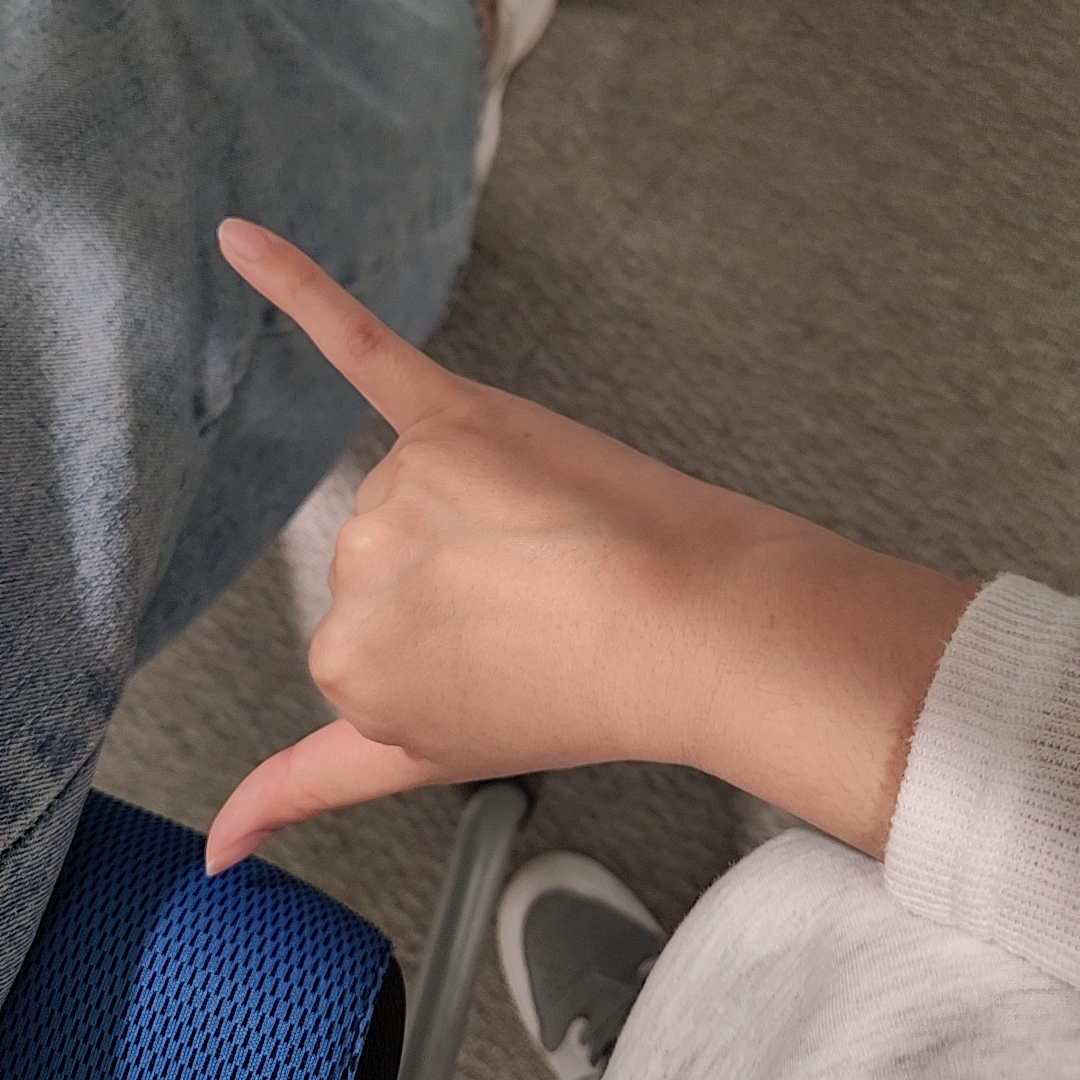call: (202, 217, 690, 880)
